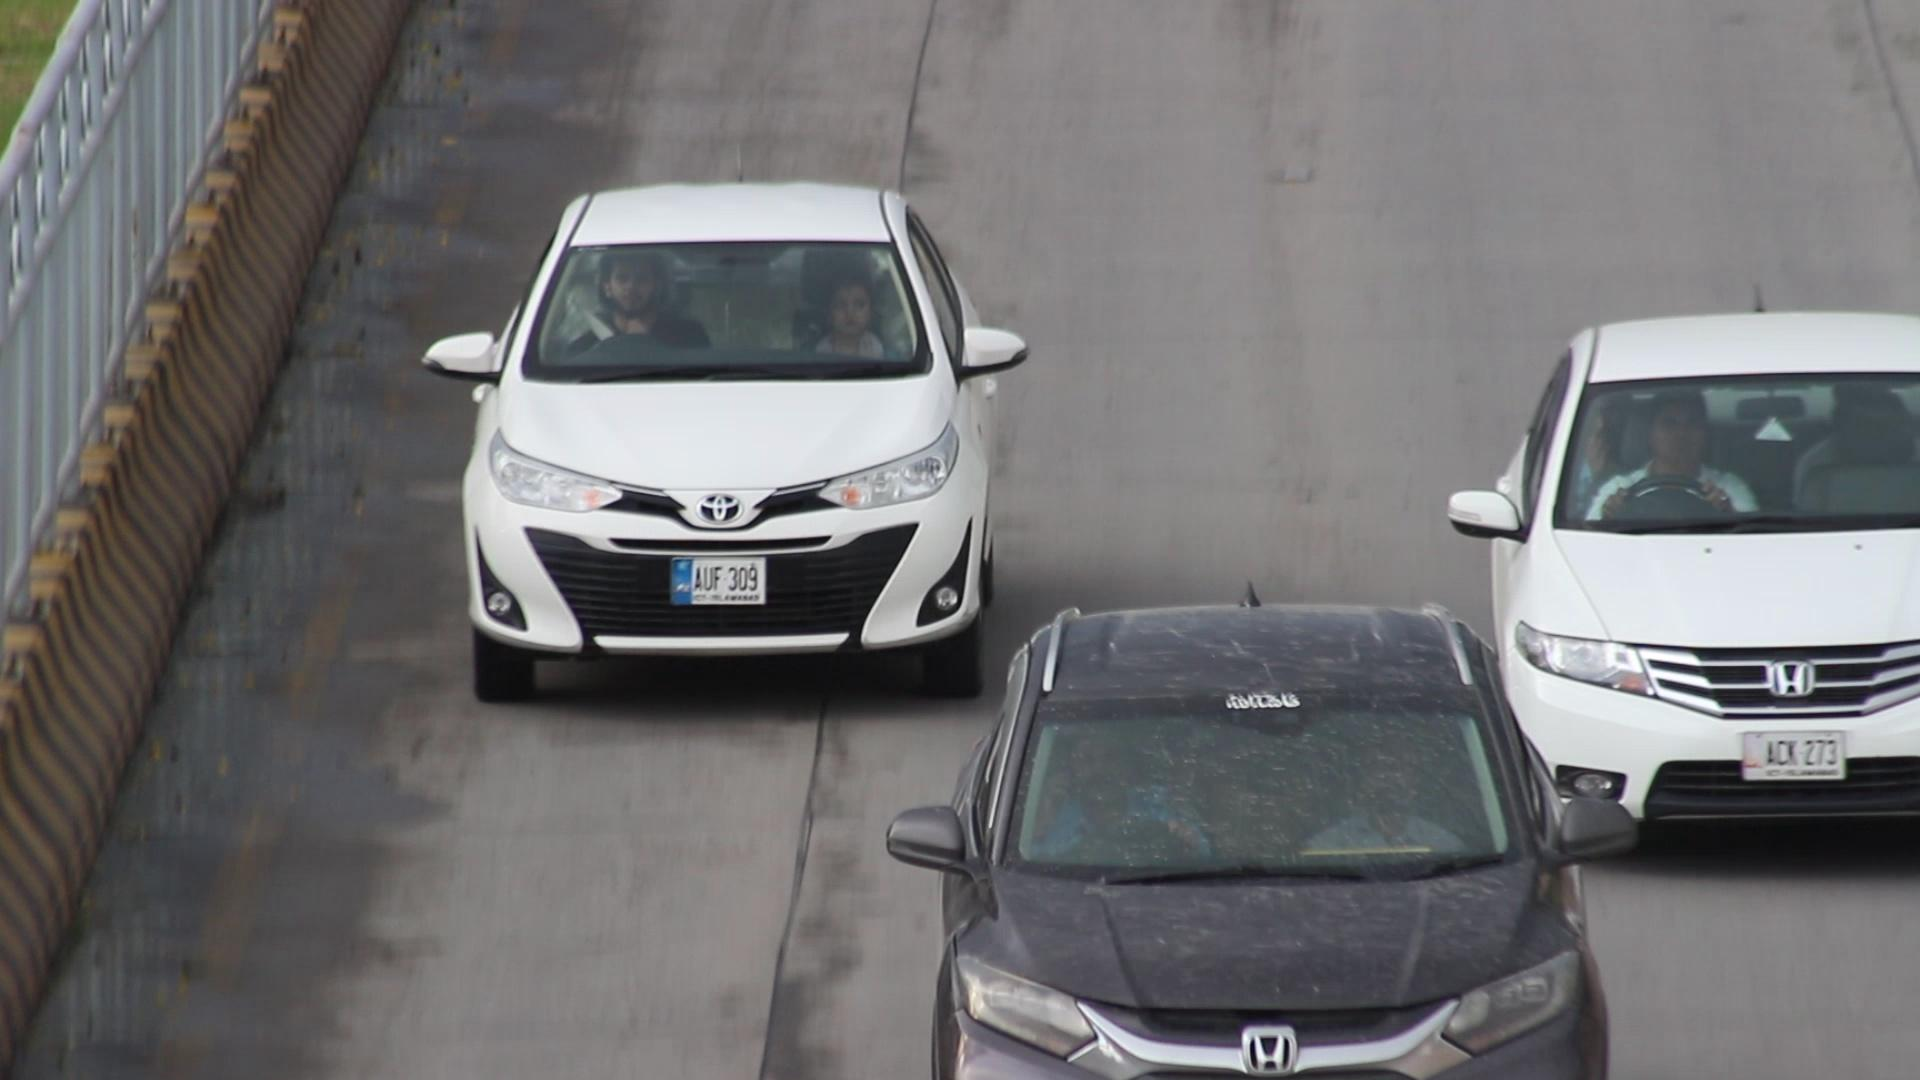windshield: (990, 670, 1531, 877), (510, 220, 938, 386)
